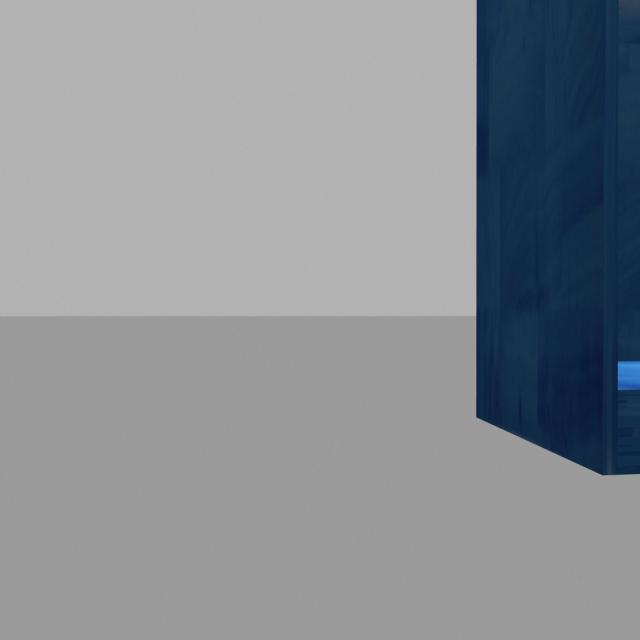shelf: (462, 2, 640, 483)
